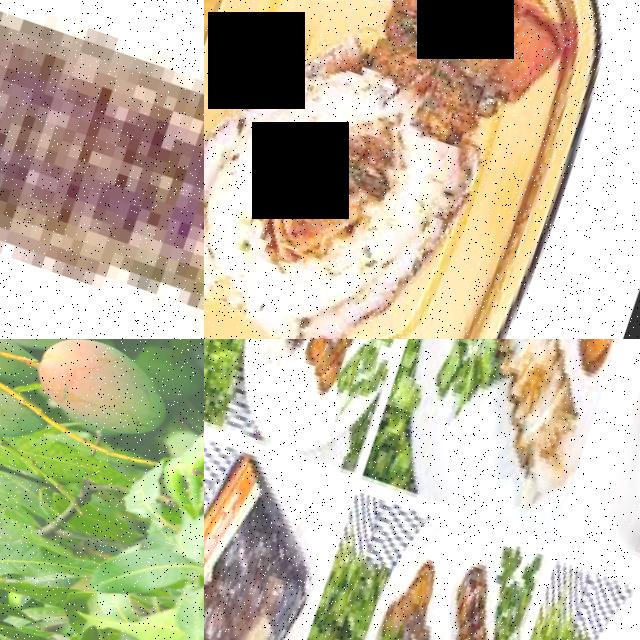lobster tails: (219, 0, 573, 339), (0, 0, 204, 339), (429, 339, 605, 498), (421, 551, 527, 640), (294, 339, 400, 399), (532, 339, 640, 379)
mango: (23, 339, 181, 445), (0, 373, 44, 450)
